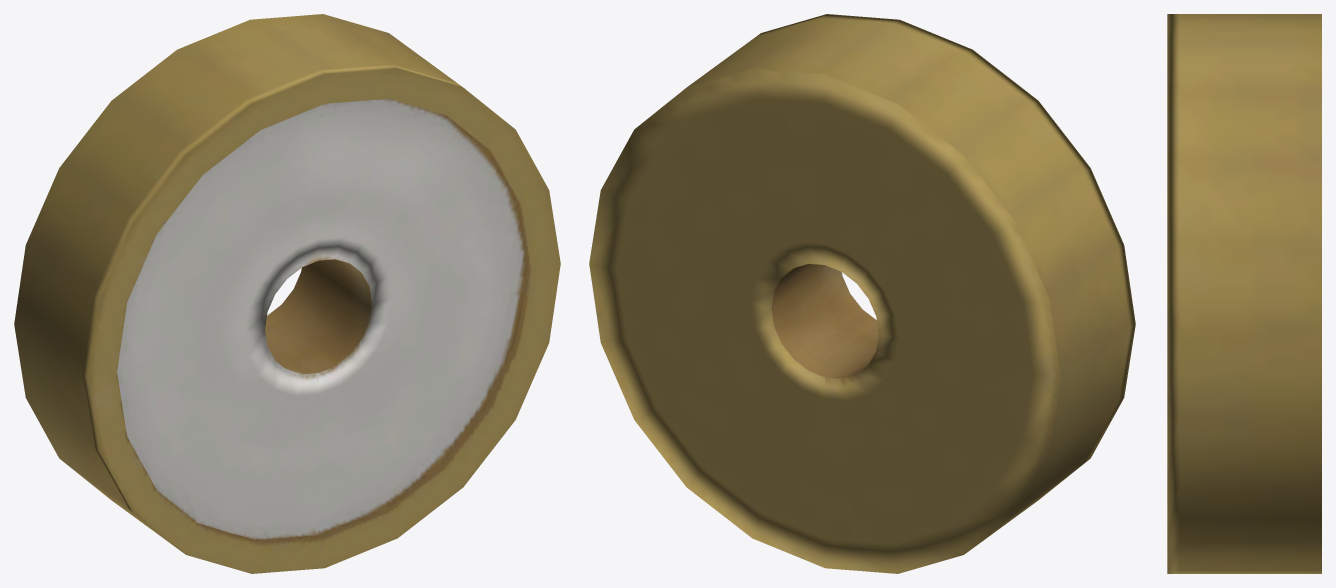
Rendered from clockBROKEN_softEdge_withCube.fbx.
3 renders of one model, left to right at view 1: azimuth 30°, elevation 25°; view 2: azimuth 150°, elevation 25°; view 3: azimuth 270°, elevation 25°, orthographic. The views are drawn at different scales.
Visible parts, largest first — view 1: castleClockBROKEN; view 2: castleClockBROKEN; view 3: castleClockBROKEN.
Boxes of the visible parts, bbox=[...] form: castleClockBROKEN: bbox=[14, 14, 560, 573]; castleClockBROKEN: bbox=[589, 14, 1135, 573]; castleClockBROKEN: bbox=[1167, 14, 1321, 573].
Bounding box in the file's own units: 43.5 × 43.5 × 12.16.
